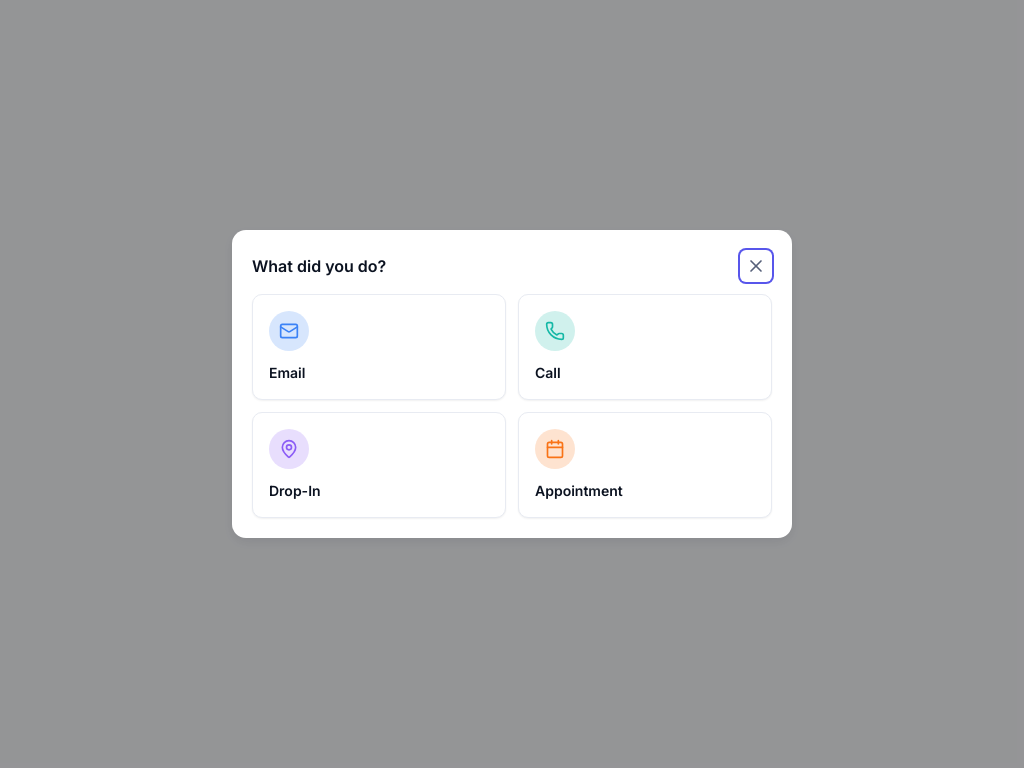
Test: LogActivitySheet — type picker › routes Appointment → form with Length field (duration alias)
Click the button "Appointment" at (645, 465), box x1=518 y1=412 x2=772 y2=518
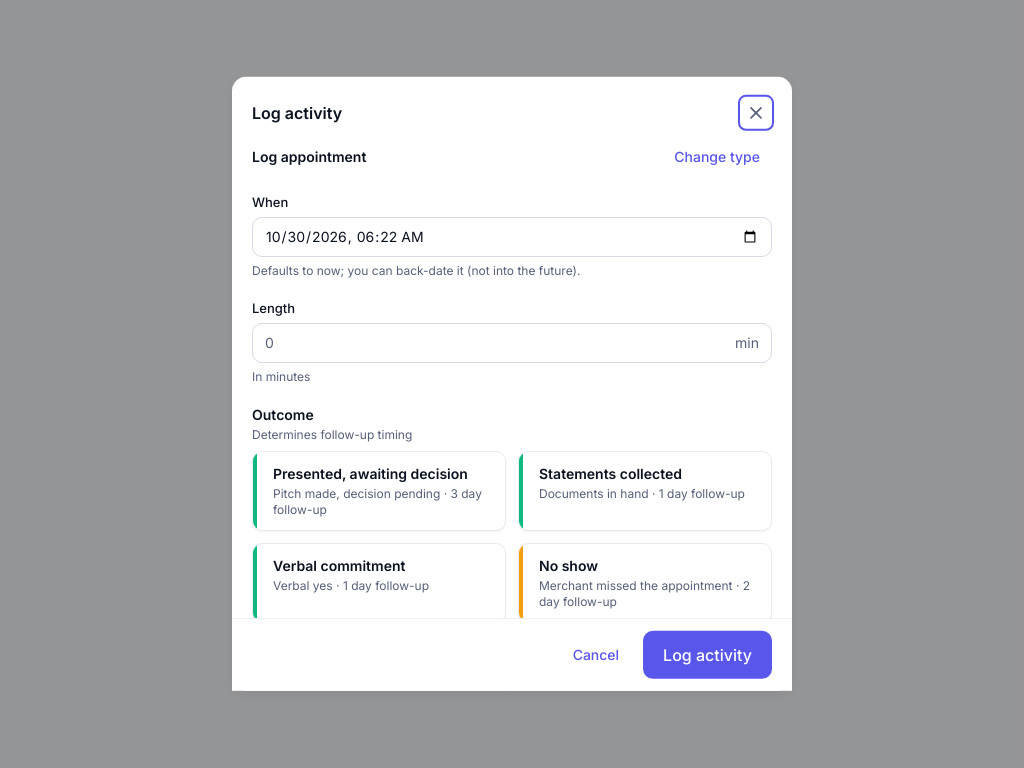
Now the heading "Log appointment" is shown, box x1=252 y1=147 x2=366 y2=167
Now the number field labelled "Length" is shown, box x1=265 y1=333 x2=727 y2=353
